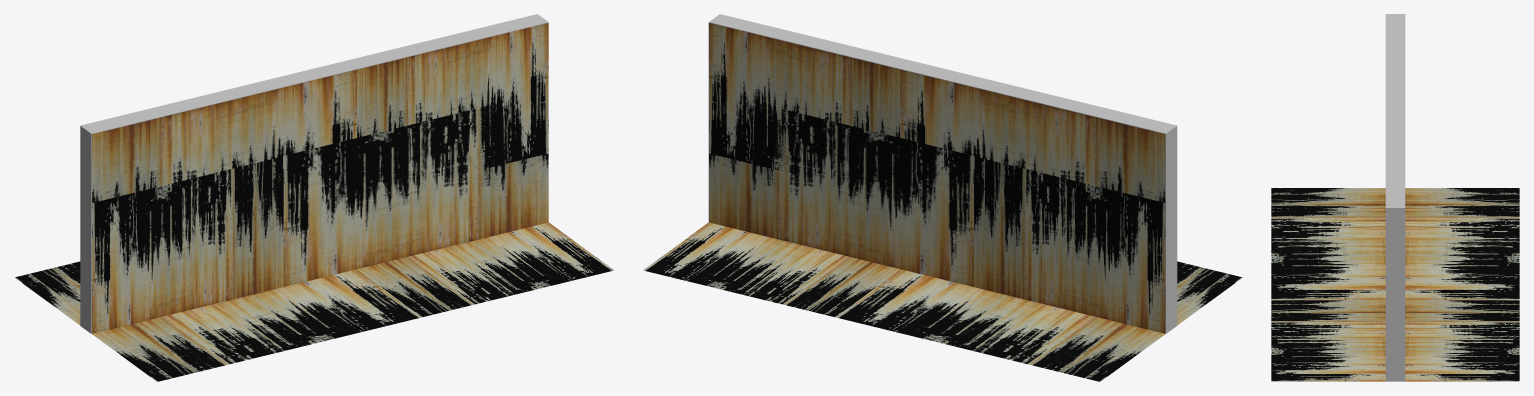
File: TiledBrick7.FBX
3 views of the same model, side by side, from view 1: azimuth 30°, elevation 25°; view 2: azimuth 150°, elevation 25°; view 3: azimuth 270°, elevation 25° (orthographic). The views are drawn at different scales.
Visible parts, largest first — view 1: TiledBrick7; view 2: TiledBrick7; view 3: TiledBrick7.
Part boxes in pixels (bbox=[...]): TiledBrick7: bbox=[15, 14, 613, 381]; TiledBrick7: bbox=[643, 14, 1242, 381]; TiledBrick7: bbox=[1271, 14, 1519, 381].
Size of the model in its own units: 482 by 202 by 260.
